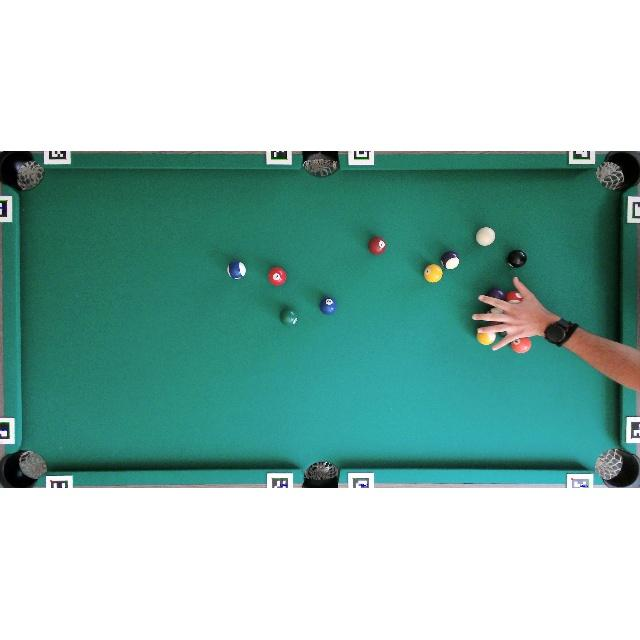cue ball: (476, 226, 496, 246)
other: (227, 260, 246, 280), (279, 307, 298, 326), (423, 264, 442, 283), (507, 250, 527, 268), (511, 336, 532, 353), (441, 251, 459, 270), (268, 267, 286, 286), (368, 236, 386, 255), (319, 297, 337, 315), (477, 330, 496, 345), (486, 288, 505, 302), (506, 291, 522, 303)
